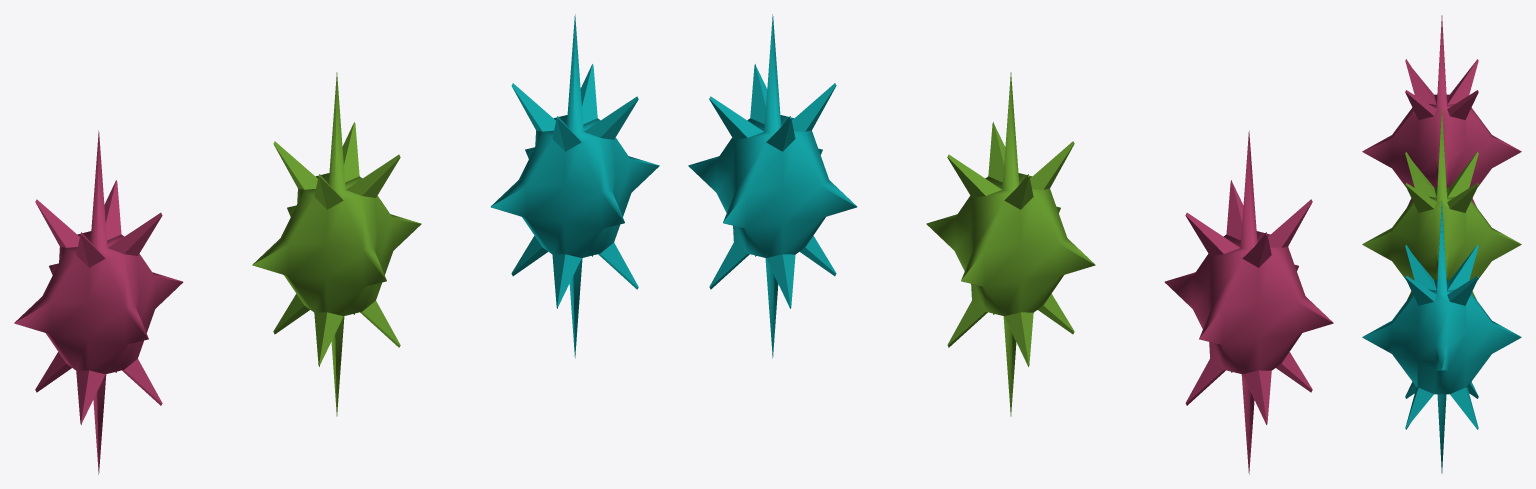
Rendered from Collectibles.fbx.
The picture shows the model from 3 angles, left to right: view 1: azimuth 30°, elevation 25°; view 2: azimuth 150°, elevation 25°; view 3: azimuth 270°, elevation 25°; orthographic projection. The views are drawn at different scales.
Visible parts, largest first — view 1: SpringCollectible, SummerCollectible, WinterCollectible; view 2: SpringCollectible, WinterCollectible, SummerCollectible; view 3: WinterCollectible, SummerCollectible, SpringCollectible.
Part boxes in pixels (left/top/right/bottom): SpringCollectible: left=252, top=72, right=421, bottom=416; SummerCollectible: left=14, top=130, right=183, bottom=474; WinterCollectible: left=490, top=14, right=659, bottom=358; SpringCollectible: left=926, top=72, right=1095, bottom=416; WinterCollectible: left=688, top=14, right=857, bottom=358; SummerCollectible: left=1164, top=130, right=1333, bottom=474; WinterCollectible: left=1362, top=201, right=1521, bottom=473; SummerCollectible: left=1362, top=15, right=1521, bottom=206; SpringCollectible: left=1362, top=108, right=1521, bottom=299.
Bounding box in the file's own units: 18.97 × 9.68 × 5.08.
